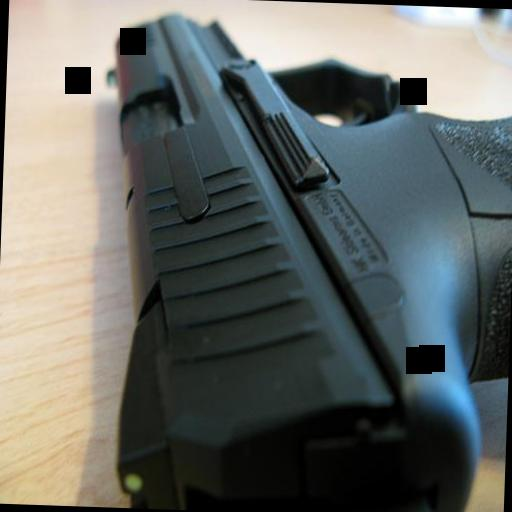Handgun: (88, 10, 512, 512)
